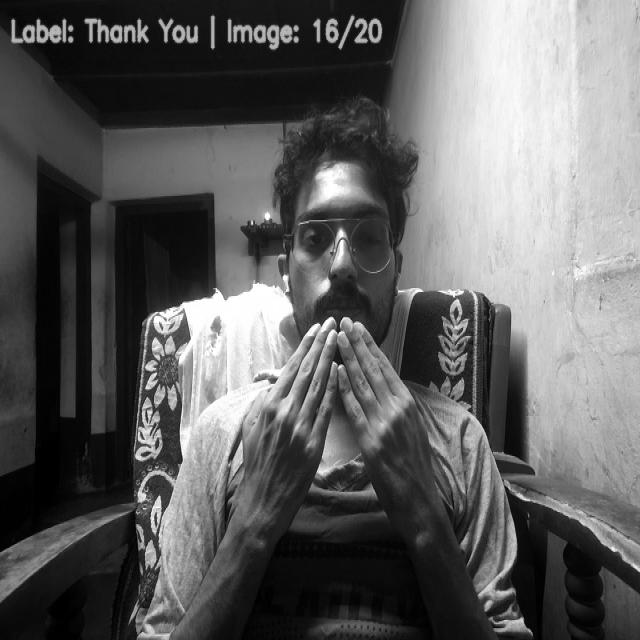Thank You: (242, 318, 444, 528)
